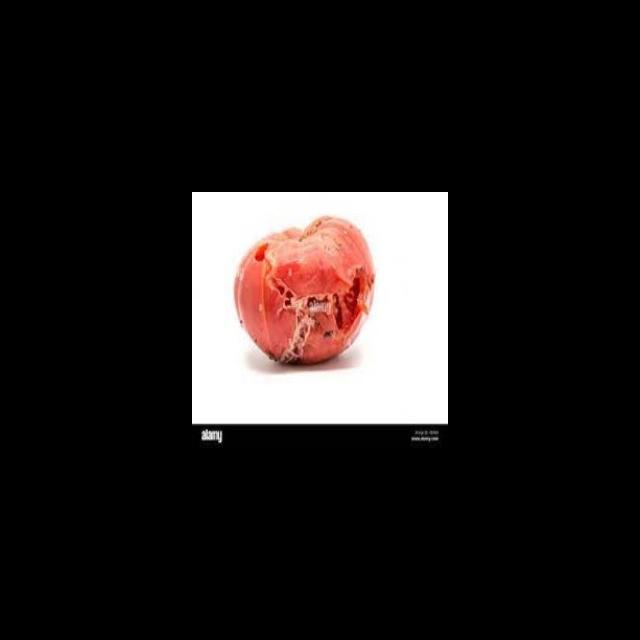tomato: (230, 211, 378, 368)
